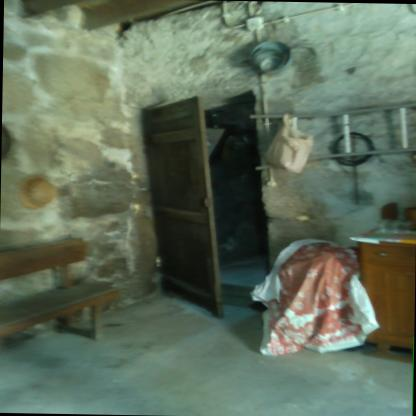semi: (128, 82, 268, 318)
